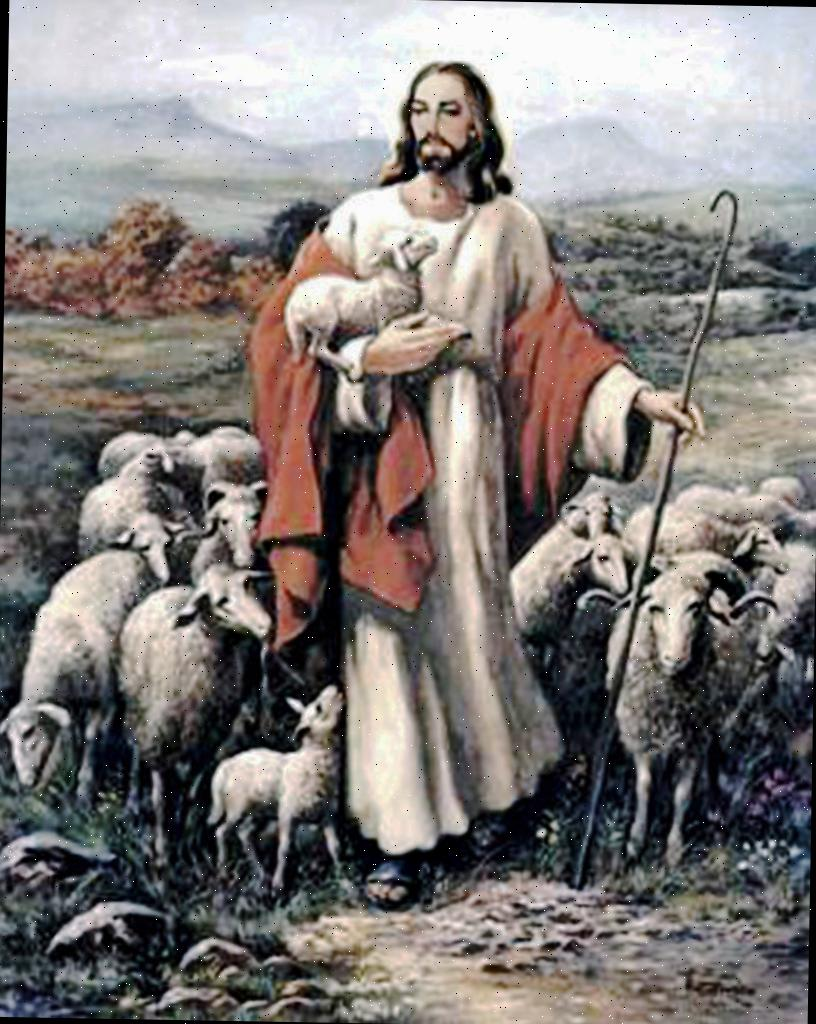Sheep: (587, 540, 763, 878), (117, 547, 293, 768), (0, 538, 134, 808), (206, 670, 353, 910), (289, 228, 436, 374), (507, 514, 634, 676), (622, 494, 792, 582), (73, 460, 179, 584), (195, 478, 270, 600), (568, 485, 623, 545)
